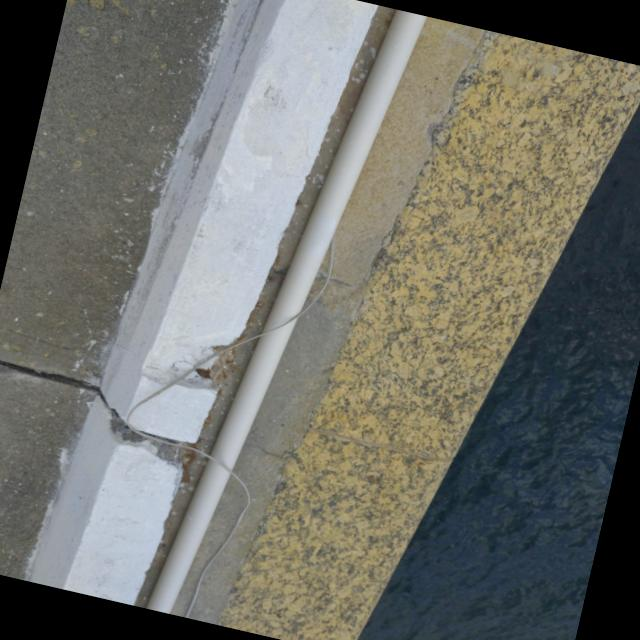gas: (145, 10, 425, 614)
